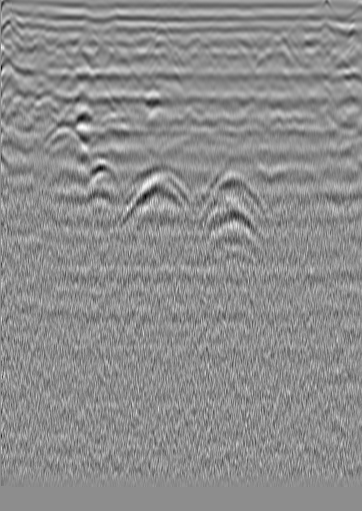가스: (80, 159, 121, 197)
상수: (303, 26, 323, 46)
오수: (28, 17, 48, 37)
우수: (187, 28, 207, 60)
